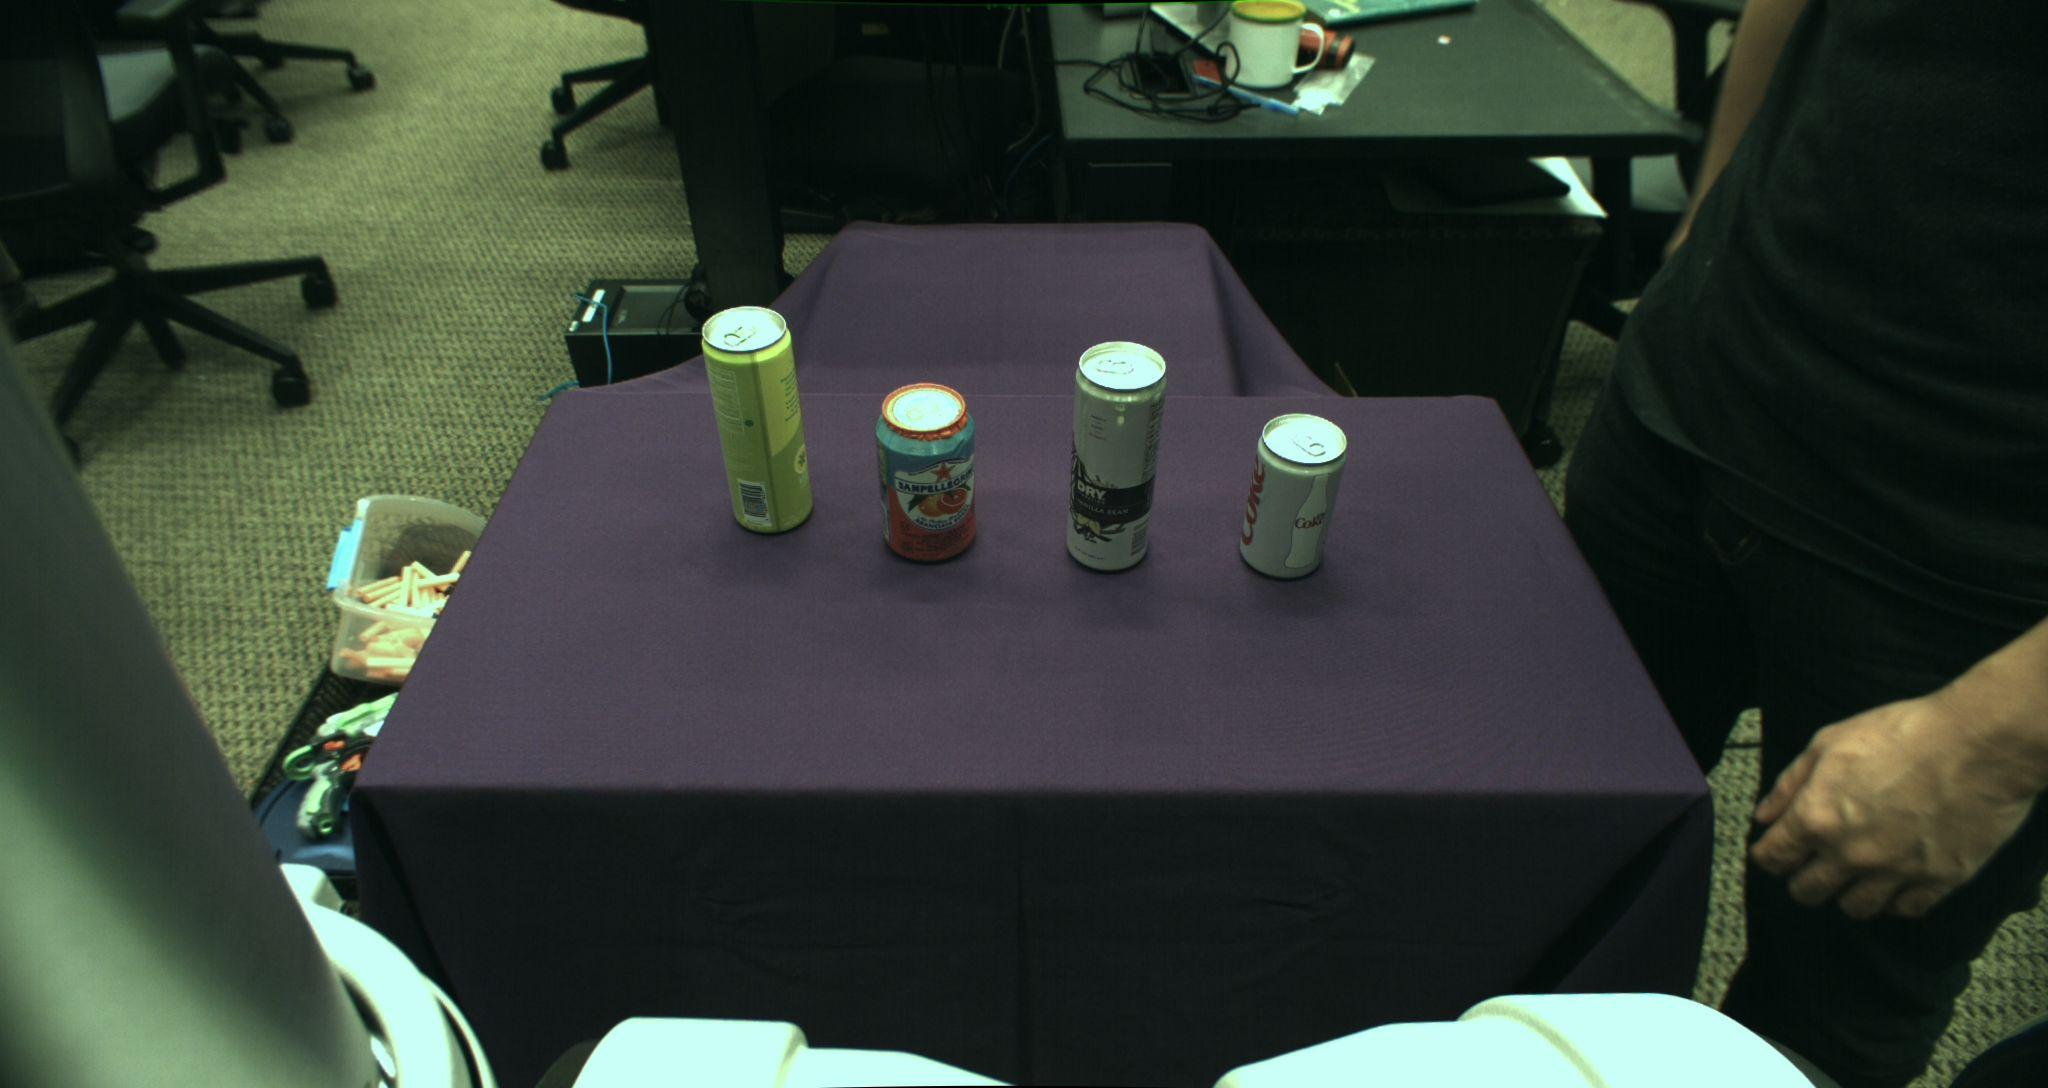can_diet_coke_small: (1239, 412, 1348, 580)
can_dry_sparkling_vanilla_bean: (1065, 340, 1165, 573)
can_izze_fusions_lemon_lime: (700, 306, 811, 534)
can_sanpellegrino_blood_orange: (875, 382, 977, 562)
